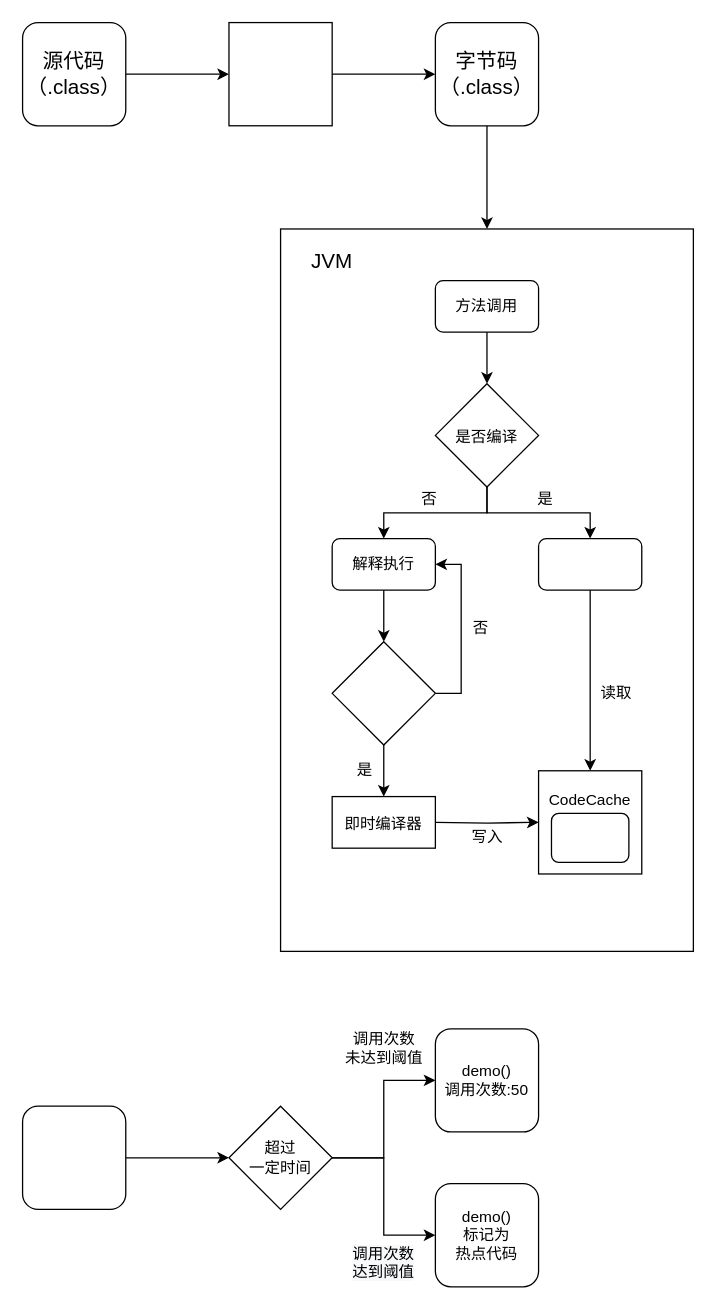
Some shapes in this 716 by 1311 pixel diagram are drawn without their labels. Each missing label, with the centre of its shape:
demo() 调用次数:99: (x=73, y=1157)
javac 编译器: (x=280, y=73)
两个计数器 之和是否 达到阈值: (x=383, y=692)
机器码: (x=589, y=837)
编译执行: (x=589, y=563)
